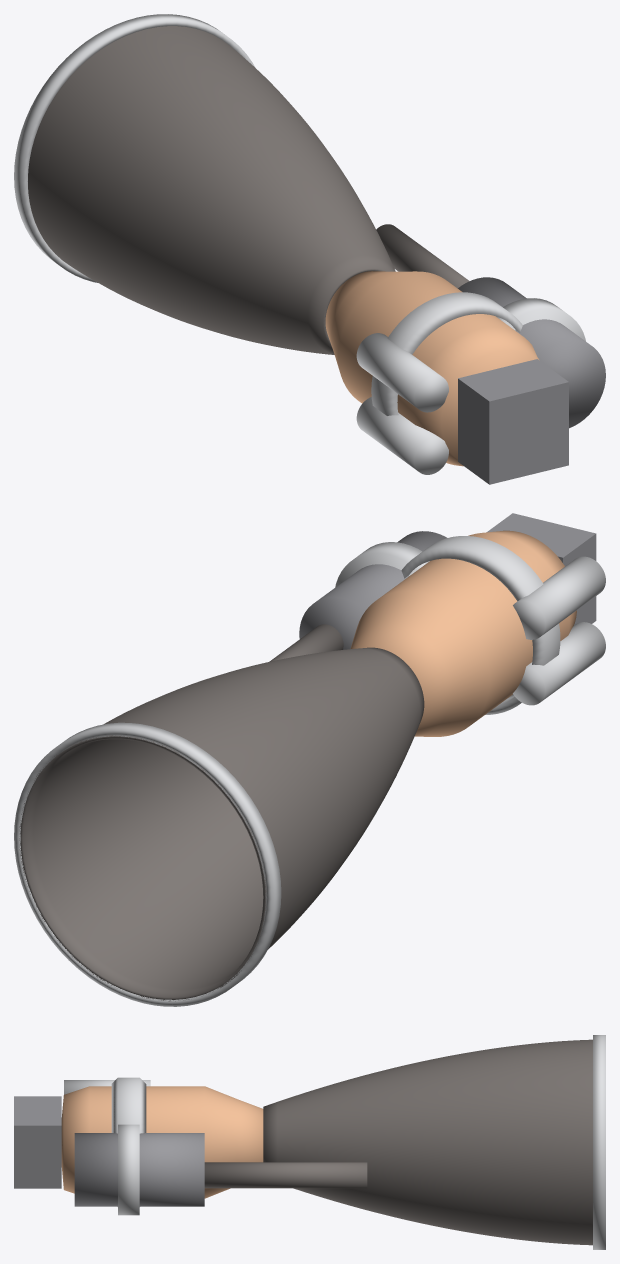
File: merlin_1d.glb
3 renders of one model, top to bottom at view 1: azimuth 30°, elevation 25°; view 2: azimuth 150°, elevation 25°; view 3: azimuth 270°, elevation 25°, orthographic. The views are drawn at different scales.
Parts seen in each view (by area): view 1: merlin_1d; view 2: merlin_1d; view 3: merlin_1d.
Boxes of the visible parts, bbox=[...] form: merlin_1d: bbox=[14, 14, 605, 484]; merlin_1d: bbox=[14, 513, 605, 1006]; merlin_1d: bbox=[14, 1035, 605, 1249].
Size of the model in its own units: 1 by 0.99 by 2.73.
